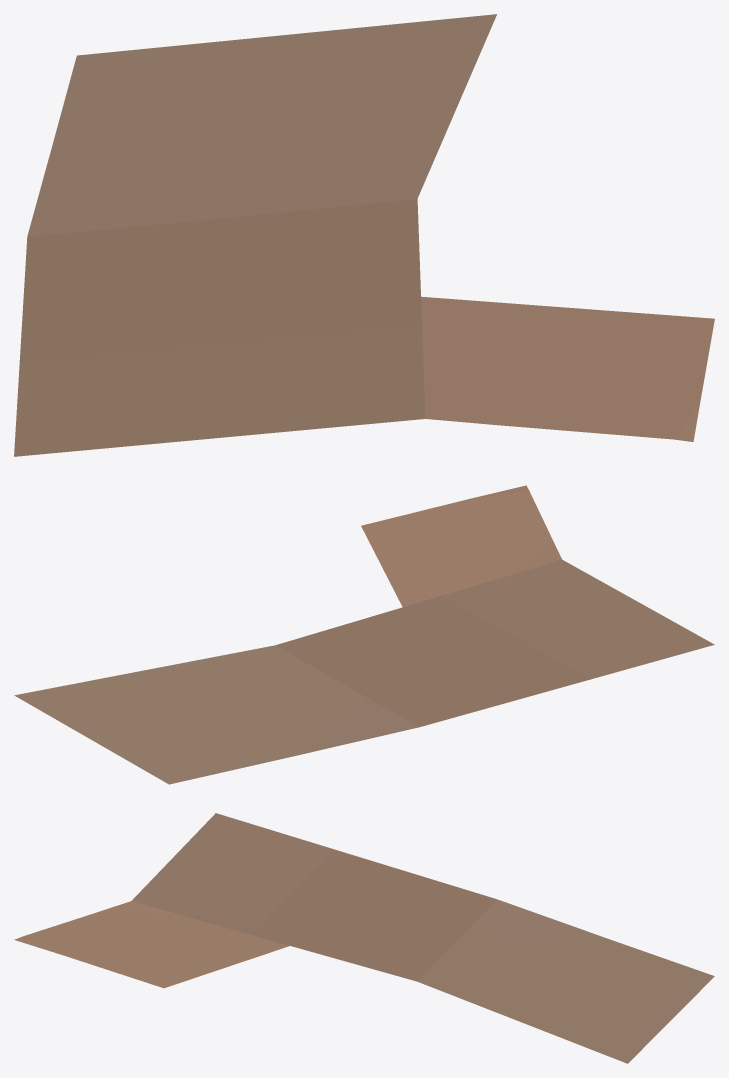
Rendered from farm_-42_-39_soil.glb.
3 renders of one model, top to bottom at view 1: azimuth 30°, elevation 25°; view 2: azimuth 150°, elevation 25°; view 3: azimuth 270°, elevation 25°, orthographic. The views are drawn at different scales.
Parts seen in each view (by area): view 1: geometry_0; view 2: geometry_0; view 3: geometry_0.
Boxes of the visible parts, x1,y1,x2,y2 form: geometry_0: (14, 14, 714, 456); geometry_0: (14, 485, 714, 784); geometry_0: (14, 813, 714, 1063).
Size of the model in its own units: 74.08 by 5.38 by 93.51.
